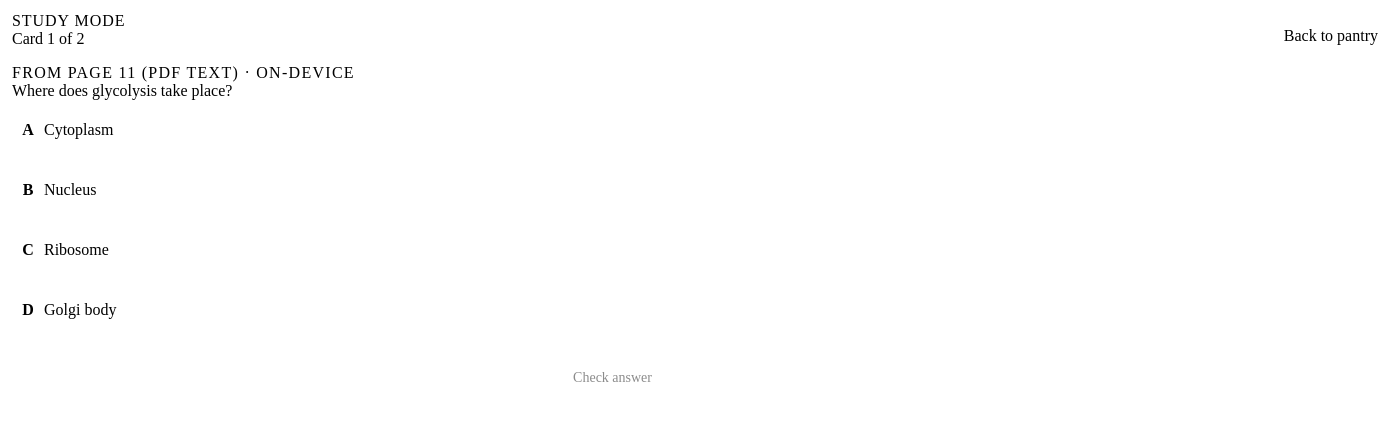
Scenario: StudySession › lets the learner retry a failed save without counting the answer twice
This screenshot has width=1390, height=435.
Click the button "A Cytoplasm".
click(79, 130)  # box 12,100 -> 652,160
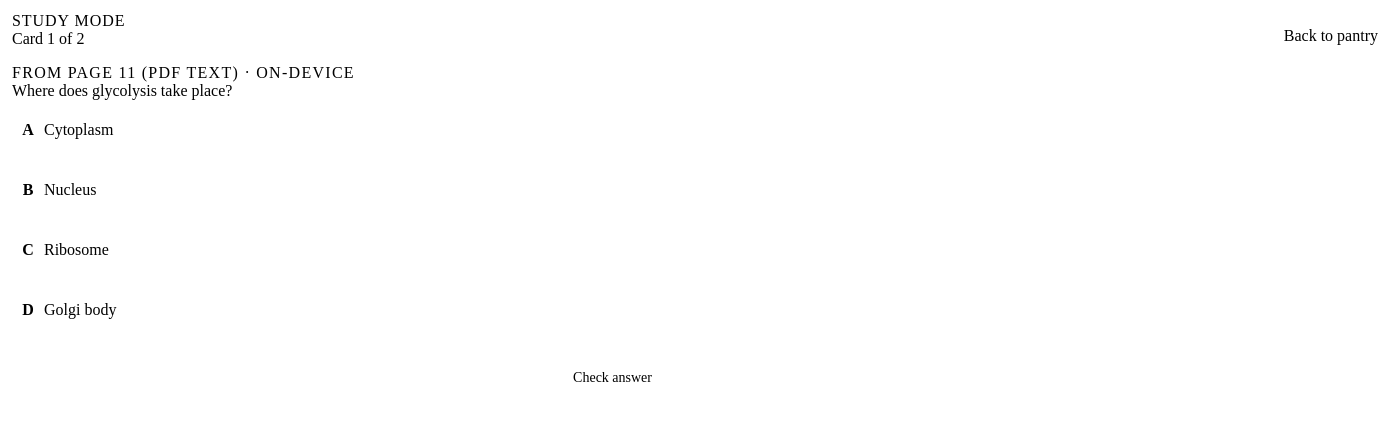
Click the button "Check answer".
click(613, 378)  # box 573,356 -> 652,400
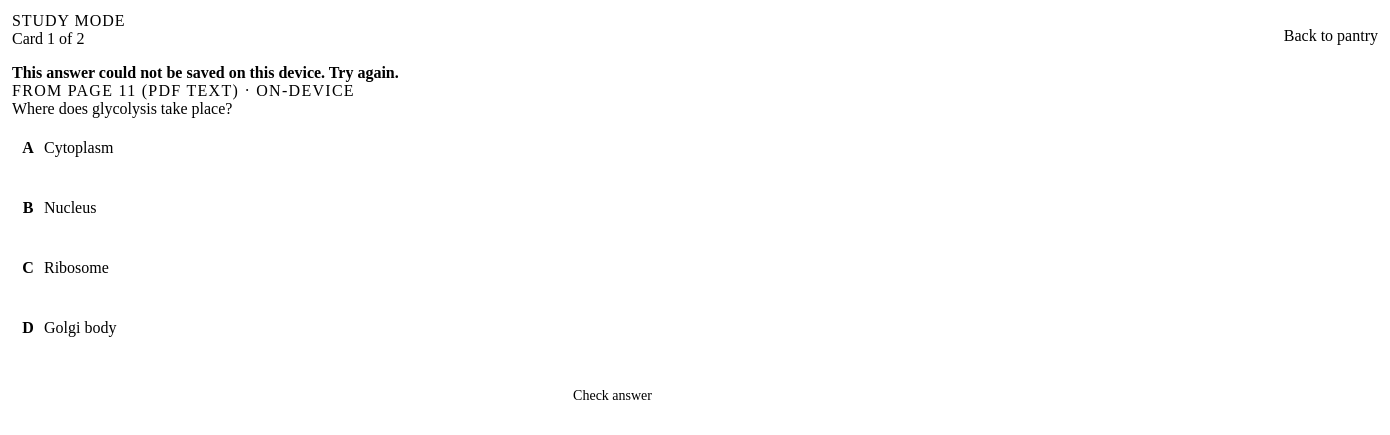
Expected: the text "Correct." is not shown
Expected: the message shows "could not be saved on this device", 12,64 -> 399,81
Click the button "Check answer".
click(613, 396)  # box 573,374 -> 652,418
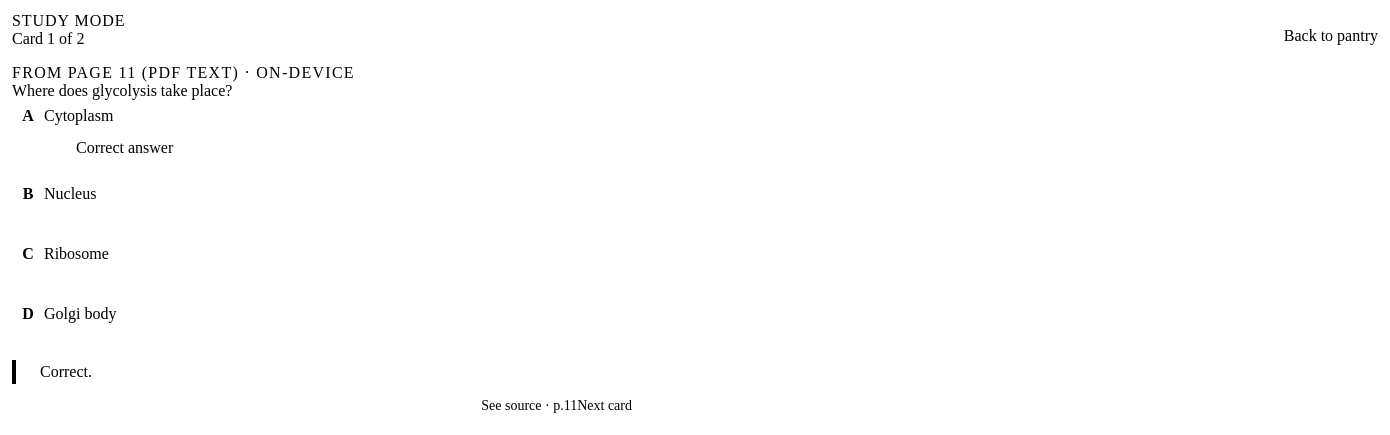
Expected: the text "Correct." is shown, 40,363 -> 92,380
